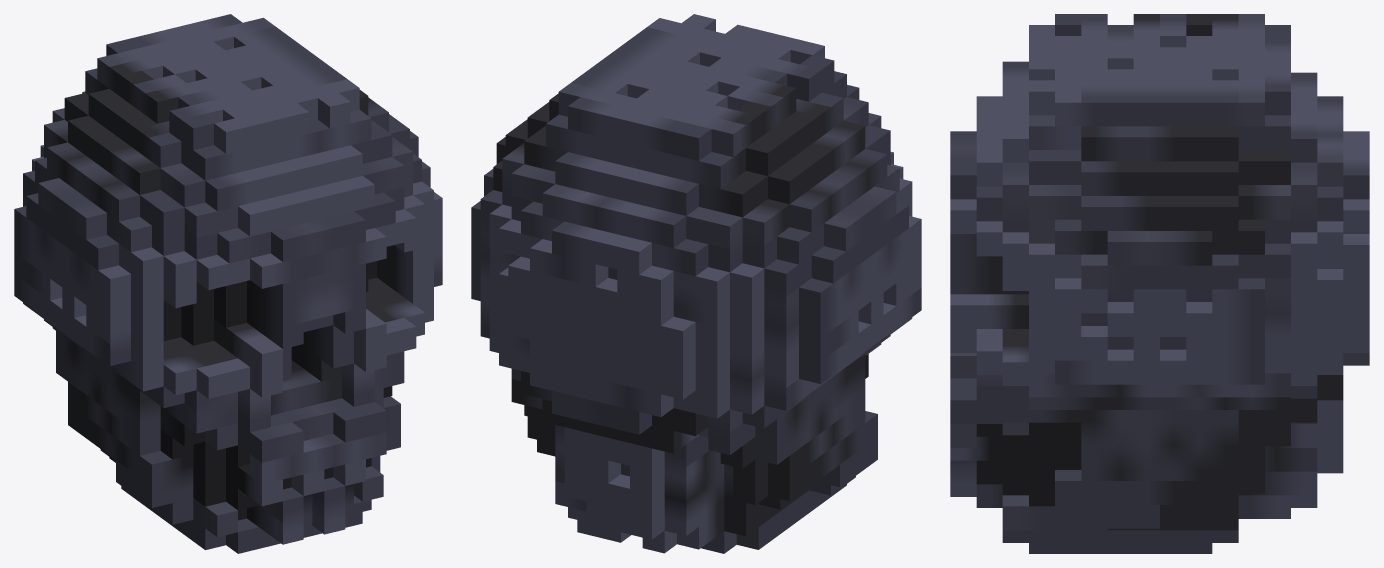
The model's file is Stone_skull.dae.
3 views of the same model, side by side, from view 1: azimuth 30°, elevation 25°; view 2: azimuth 150°, elevation 25°; view 3: azimuth 270°, elevation 25° (orthographic). The views are drawn at different scales.
Parts seen in each view (by area): view 1: Stone_skull; view 2: Stone_skull; view 3: Stone_skull.
Part boxes in pixels (bbox=[...]): Stone_skull: bbox=[14, 14, 442, 553]; Stone_skull: bbox=[471, 14, 921, 553]; Stone_skull: bbox=[950, 14, 1369, 553].
Bounding box in the file's own units: 16 × 19 × 16.
Materials: 1 (1 with a texture image).
